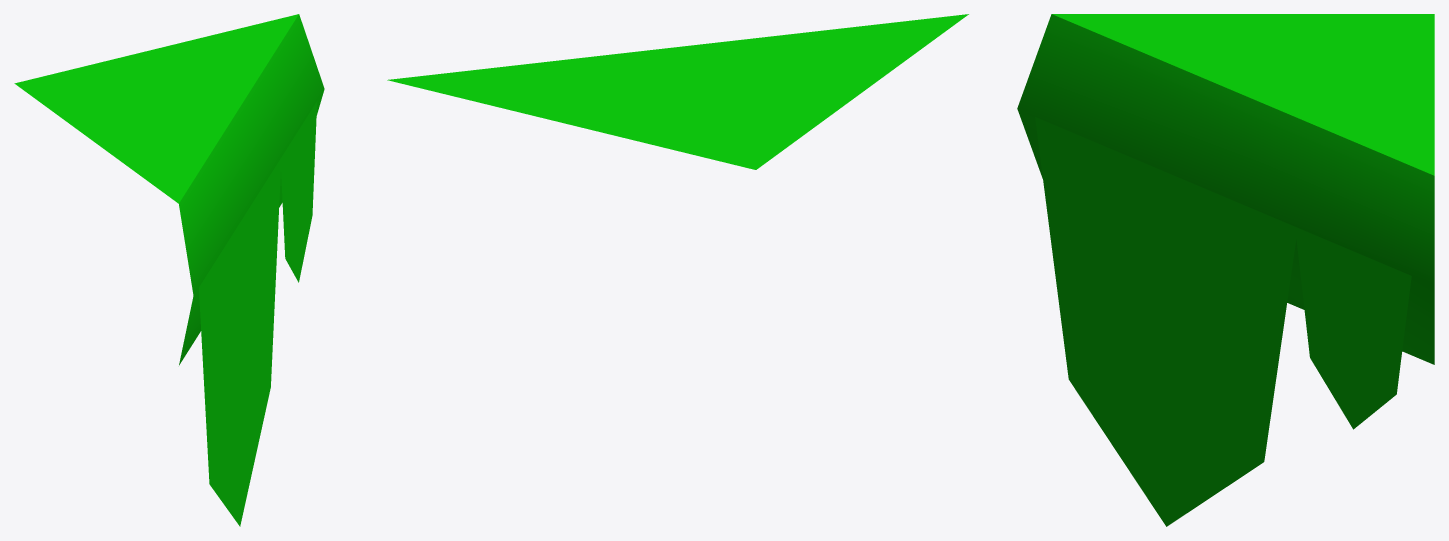
The model's file is Diagonal_TopFloor_003.glb.
3 views of the same model, side by side, from view 1: azimuth 30°, elevation 25°; view 2: azimuth 150°, elevation 25°; view 3: azimuth 270°, elevation 25° (orthographic). The views are drawn at different scales.
Visible parts, largest first — view 1: Diagonal_TopFloor.003; view 2: Diagonal_TopFloor.003; view 3: Diagonal_TopFloor.003.
Part boxes in pixels (x1=…): Diagonal_TopFloor.003: x1=14, y1=14, x2=324, y2=526; Diagonal_TopFloor.003: x1=387, y1=14, x2=968, y2=169; Diagonal_TopFloor.003: x1=1017, y1=14, x2=1434, y2=526.
Bounding box in the file's own units: 0.5 × 0.5947 × 0.5.
